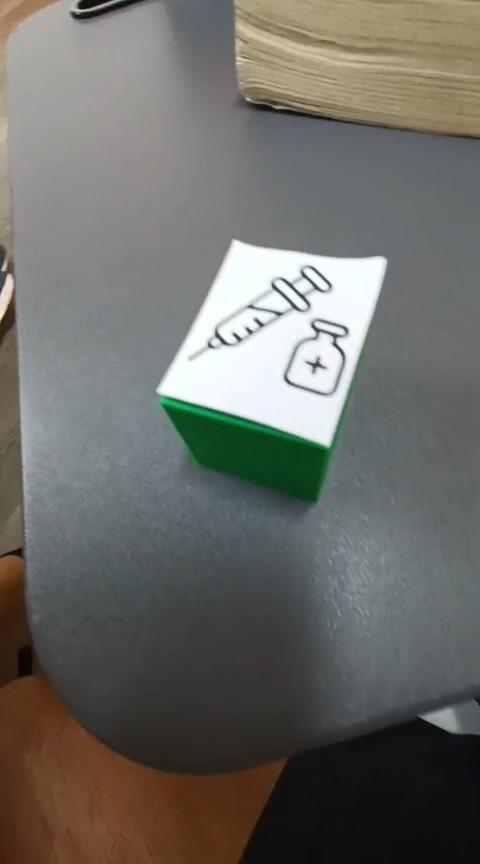antiseptic cream: (154, 236, 388, 503)
